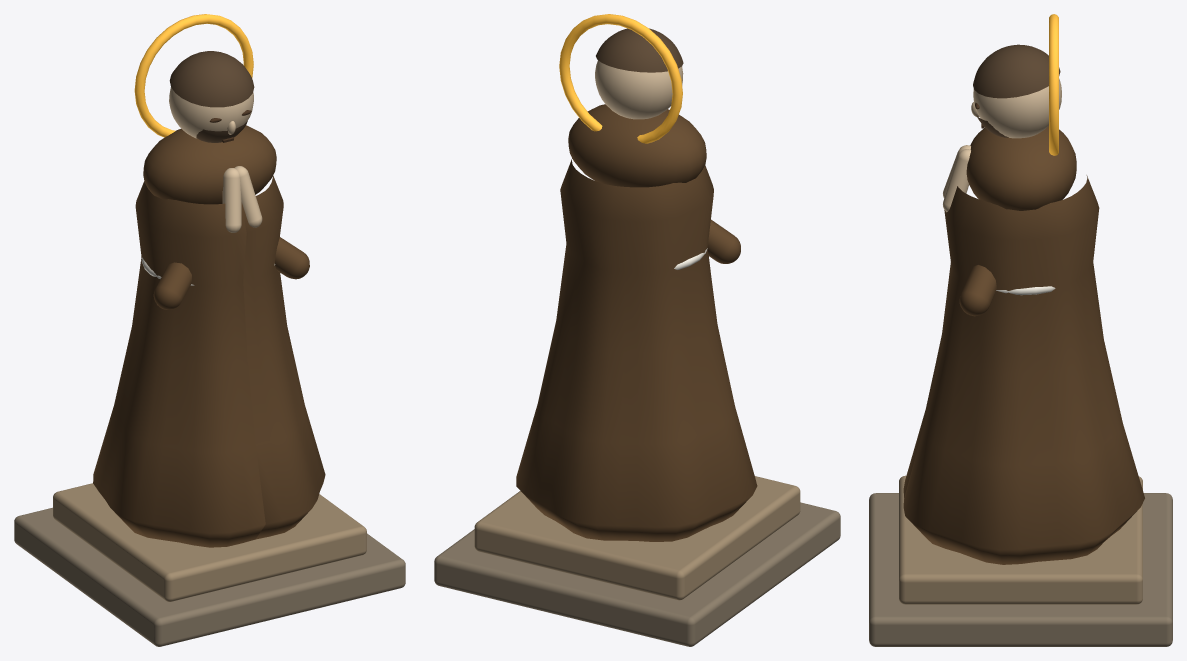
The model's file is statue-phanxico.glb.
The picture shows the model from 3 angles, left to right: view 1: azimuth 30°, elevation 25°; view 2: azimuth 150°, elevation 25°; view 3: azimuth 270°, elevation 25°; orthographic projection. The views are drawn at different scales.
Visible parts, largest first — view 1: Robe, PlinthLow, PlinthTop, Shoulders, Hair, object 20, Arm (×2), Head, Hand (×2); view 2: Robe, PlinthLow, PlinthTop, Shoulders, object 20, Head, Hair, Arm; view 3: Robe, PlinthLow, PlinthTop, Shoulders, Hair, Head, object 20, Arm, Hand.
Part boxes in pixels (box(x1,y1,x2,y2)): Robe: box(93, 175, 325, 547); PlinthLow: box(14, 507, 405, 646); PlinthTop: box(53, 483, 366, 601); Shoulders: box(143, 125, 276, 204); Hair: box(169, 51, 254, 107); object 20: box(134, 14, 253, 137); Arm (×2): box(153, 237, 309, 309); Head: box(169, 87, 253, 138); Hand (×2): box(222, 166, 262, 232); Robe: box(516, 158, 757, 541); PlinthLow: box(434, 502, 840, 646); PlinthTop: box(474, 476, 800, 600); Shoulders: box(568, 104, 706, 187); object 20: box(559, 14, 682, 143); Head: box(595, 60, 683, 119); Hair: box(596, 28, 683, 72); Arm: box(707, 219, 740, 263); Robe: box(903, 175, 1144, 564); PlinthLow: box(869, 493, 1172, 646); PlinthTop: box(899, 475, 1142, 604); Shoulders: box(966, 126, 1076, 210); Hair: box(973, 44, 1060, 98); Head: box(973, 78, 1061, 138); object 20: box(1049, 14, 1058, 155); Arm: box(959, 265, 996, 316); Hand: box(943, 149, 970, 212).
Size of the model in its own units: 0.92 by 1.89 by 0.92.
